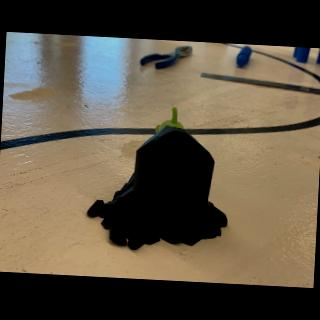teletubby: (156, 107, 184, 133)
